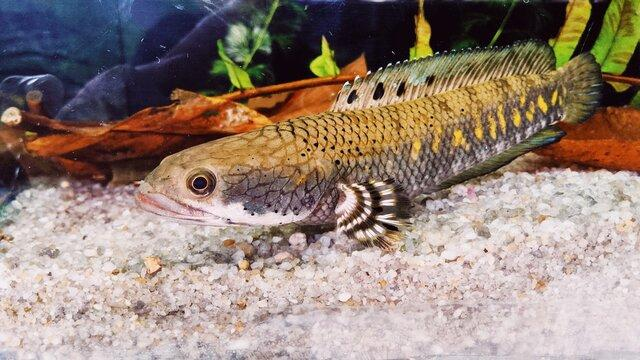Mulut: (128, 172, 250, 242)
Sirip Anal: (422, 120, 572, 214)
Sirip Dada: (330, 171, 420, 255)
Sirip Ekor: (556, 47, 610, 133)
Sirip Punggung: (332, 35, 558, 118)
